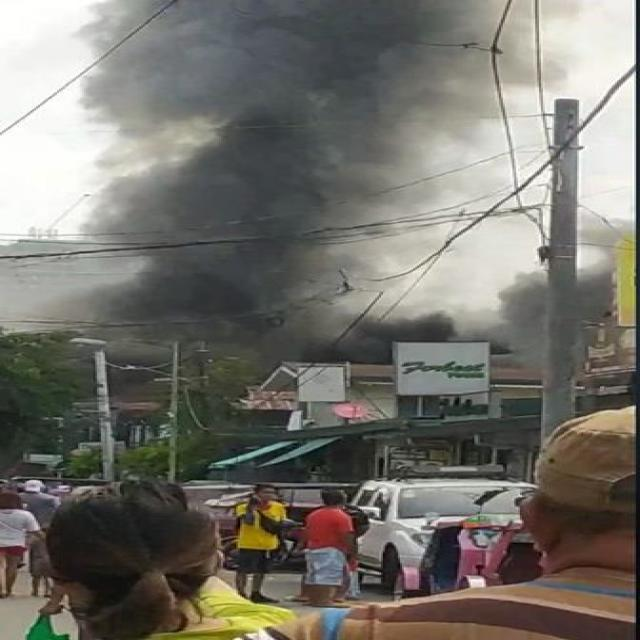Smoke: (100, 1, 492, 361)
